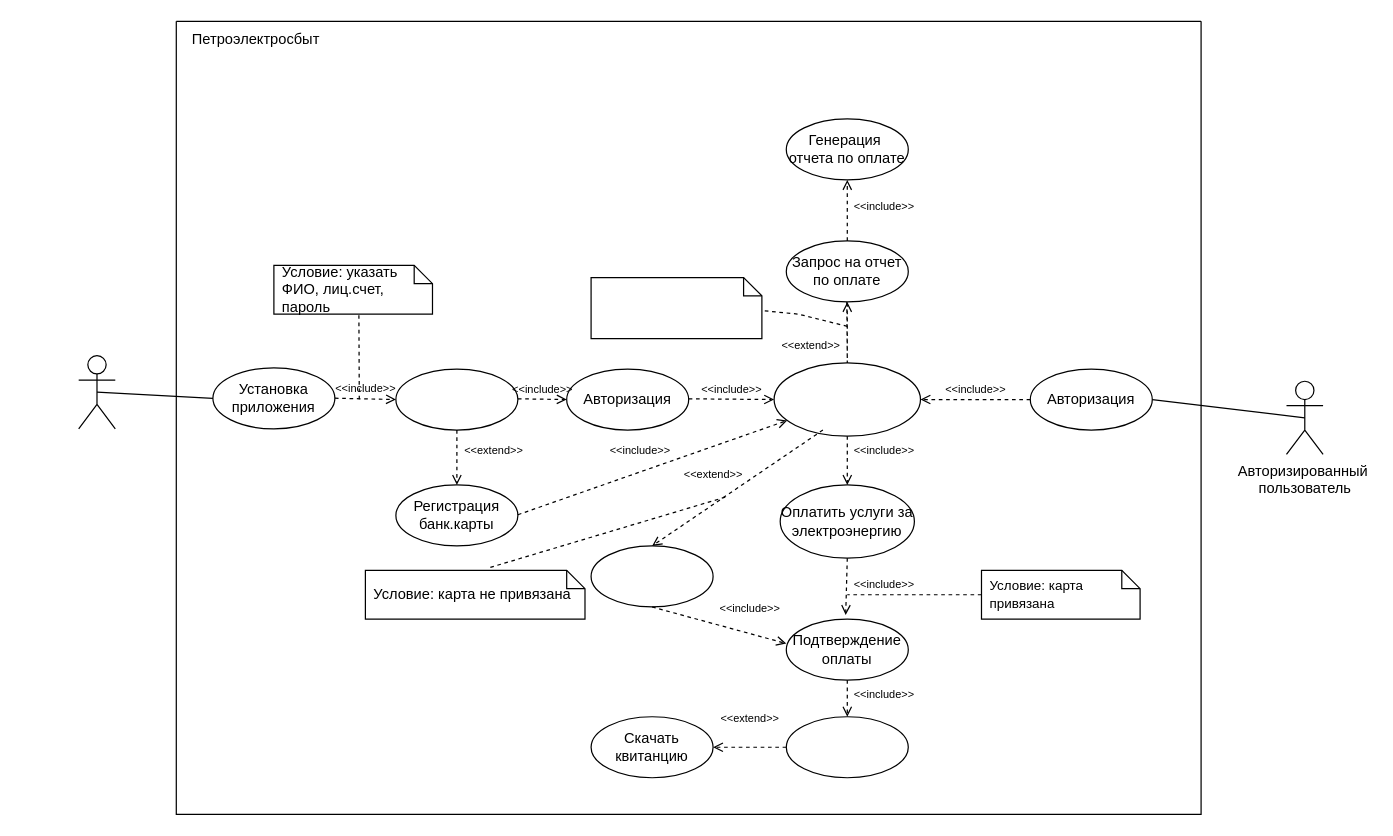
This 1393x836 diagram has some shape labels left out. The shapes that lost their labels are listed below. From the top down, each one's box as (x1, y1, x2, y2) in pixels, then its label:
(590, 276, 762, 339): Условие: указать период для отчета
(77, 354, 115, 429): Неавторизированный пользователь
(395, 368, 518, 430): Регистрация
(773, 362, 920, 436): Ввод показаний прибора
(590, 545, 713, 607): Ввод данных банк. карты
(785, 716, 908, 778): Генерация квитанции
